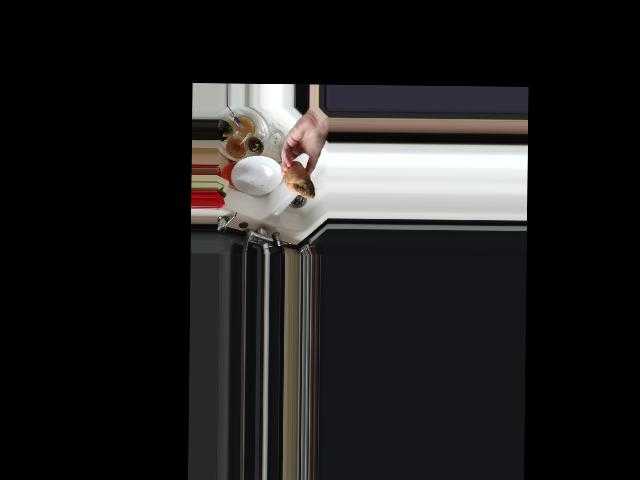sweet_potato: (283, 161, 318, 199)
